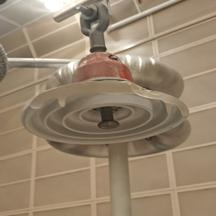insulator: (7, 47, 191, 150)
